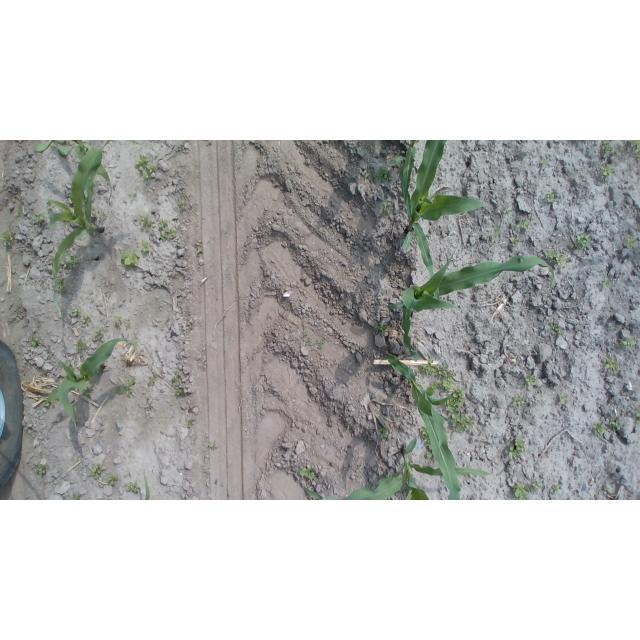Maize: (389, 251, 558, 361), (47, 140, 144, 316), (400, 141, 492, 280), (383, 350, 460, 499), (301, 441, 491, 500), (39, 335, 138, 427), (71, 141, 113, 203), (141, 471, 151, 500)
Weeds: (444, 388, 477, 435), (416, 358, 458, 393), (135, 154, 157, 180), (35, 141, 70, 156), (505, 437, 526, 459), (545, 248, 569, 266), (115, 377, 136, 397), (159, 219, 178, 241), (0, 228, 16, 248), (512, 483, 530, 500), (121, 250, 140, 266), (61, 255, 81, 270), (372, 166, 392, 181), (298, 465, 316, 481), (618, 335, 636, 351), (604, 355, 619, 374), (90, 463, 105, 480), (576, 234, 593, 249), (32, 212, 48, 227), (600, 165, 616, 179), (139, 214, 153, 230), (592, 422, 607, 436), (379, 203, 393, 218), (420, 427, 432, 444), (54, 276, 66, 292), (178, 194, 191, 208), (624, 236, 638, 249), (517, 218, 532, 230), (524, 375, 537, 388), (626, 140, 638, 154), (77, 140, 91, 152), (550, 323, 562, 337), (307, 338, 325, 347), (543, 191, 556, 203), (512, 395, 525, 407), (600, 141, 612, 154), (128, 481, 141, 493), (376, 322, 388, 334), (34, 462, 46, 474), (599, 278, 613, 288), (171, 375, 183, 386), (611, 419, 622, 431), (95, 328, 106, 340), (508, 236, 520, 247), (141, 240, 151, 253), (107, 475, 118, 486), (531, 480, 542, 491), (379, 427, 389, 439), (147, 373, 157, 385), (75, 341, 90, 349), (559, 392, 569, 404), (29, 336, 41, 346), (426, 444, 434, 459), (491, 227, 500, 240), (71, 308, 82, 317), (502, 205, 511, 216), (14, 207, 22, 219), (539, 157, 549, 166), (83, 316, 92, 325), (129, 192, 138, 201), (552, 485, 560, 495), (114, 315, 122, 325), (360, 171, 371, 178), (71, 493, 82, 500), (176, 388, 185, 396), (188, 419, 196, 428), (47, 201, 54, 211), (614, 148, 622, 156), (208, 442, 216, 450), (195, 248, 203, 256), (186, 322, 193, 331), (85, 390, 93, 397), (99, 211, 106, 218)
